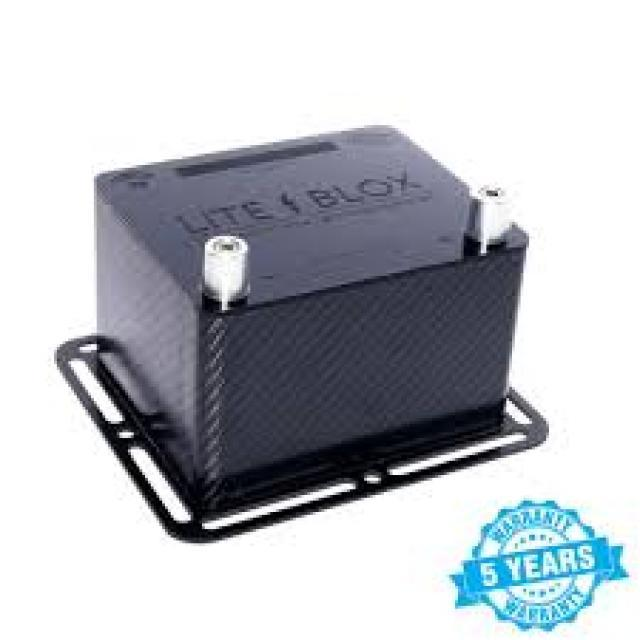battery: (58, 124, 548, 544)
